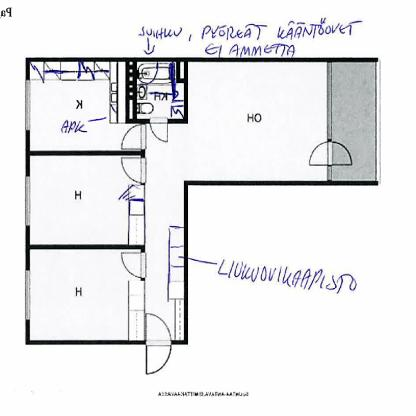door: (146, 313, 172, 378), (309, 137, 356, 167), (122, 250, 146, 283), (119, 124, 145, 154), (146, 120, 172, 146), (121, 158, 145, 180)
window: (23, 176, 32, 228), (24, 271, 32, 322), (24, 80, 30, 129)
zone: (142, 62, 330, 342), (29, 247, 142, 340), (30, 156, 141, 245), (30, 61, 142, 149), (330, 62, 376, 182), (134, 59, 184, 119)
